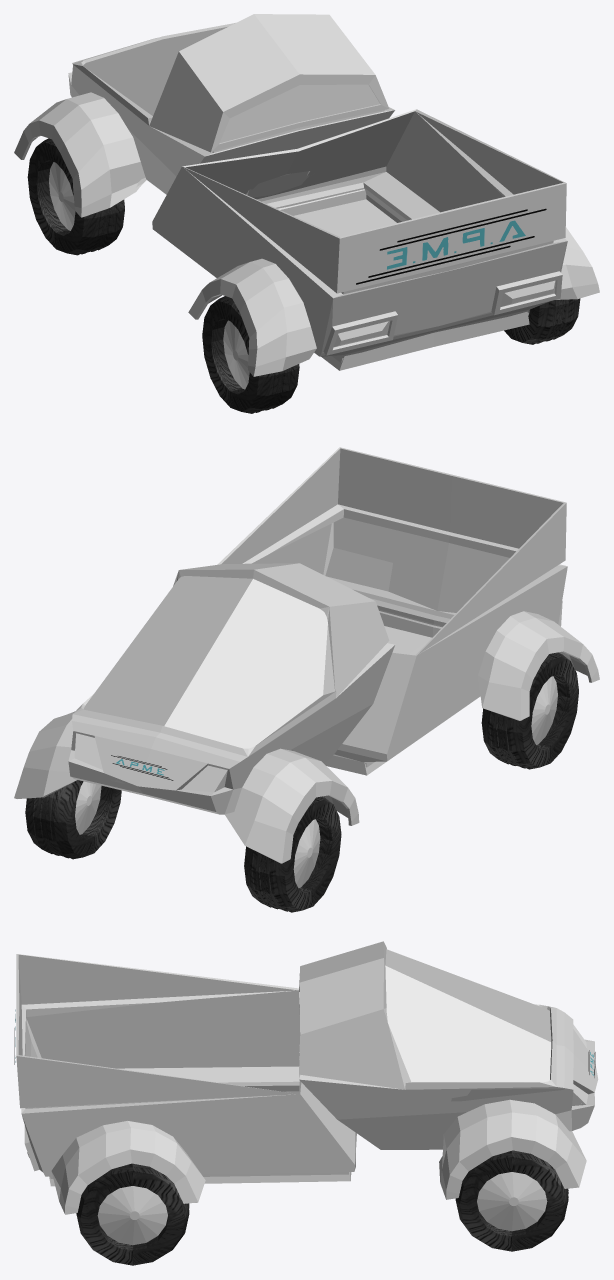
The model's file is truck blender(1) 1.fbx.
The picture shows the model from 3 angles, top to bottom: view 1: azimuth 30°, elevation 25°; view 2: azimuth 150°, elevation 25°; view 3: azimuth 270°, elevation 25°; orthographic projection. The views are drawn at different scales.
Parts seen in each view (by area): view 1: truck, wheel.p.004, wheel.p.001, Logo2, wheel.p.003; view 2: truck, wheel.p.004, wheel.p.001, wheel.p.002; view 3: truck, wheel.p.003, wheel.p.002.
Part boxes in pixels (x1,y1,x2,y2): truck: [14, 14, 599, 376]; wheel.p.004: [202, 296, 299, 413]; wheel.p.001: [27, 138, 124, 255]; Logo2: [356, 208, 546, 284]; wheel.p.003: [504, 298, 580, 344]; truck: [14, 447, 599, 863]; wheel.p.004: [481, 652, 578, 769]; wheel.p.001: [244, 796, 341, 912]; wheel.p.002: [25, 780, 121, 859]; truck: [16, 941, 598, 1214]; wheel.p.003: [76, 1163, 189, 1265]; wheel.p.002: [455, 1150, 568, 1251].
Size of the model in its own units: 309 by 221 by 491.
Materials: 7 (2 with a texture image).
